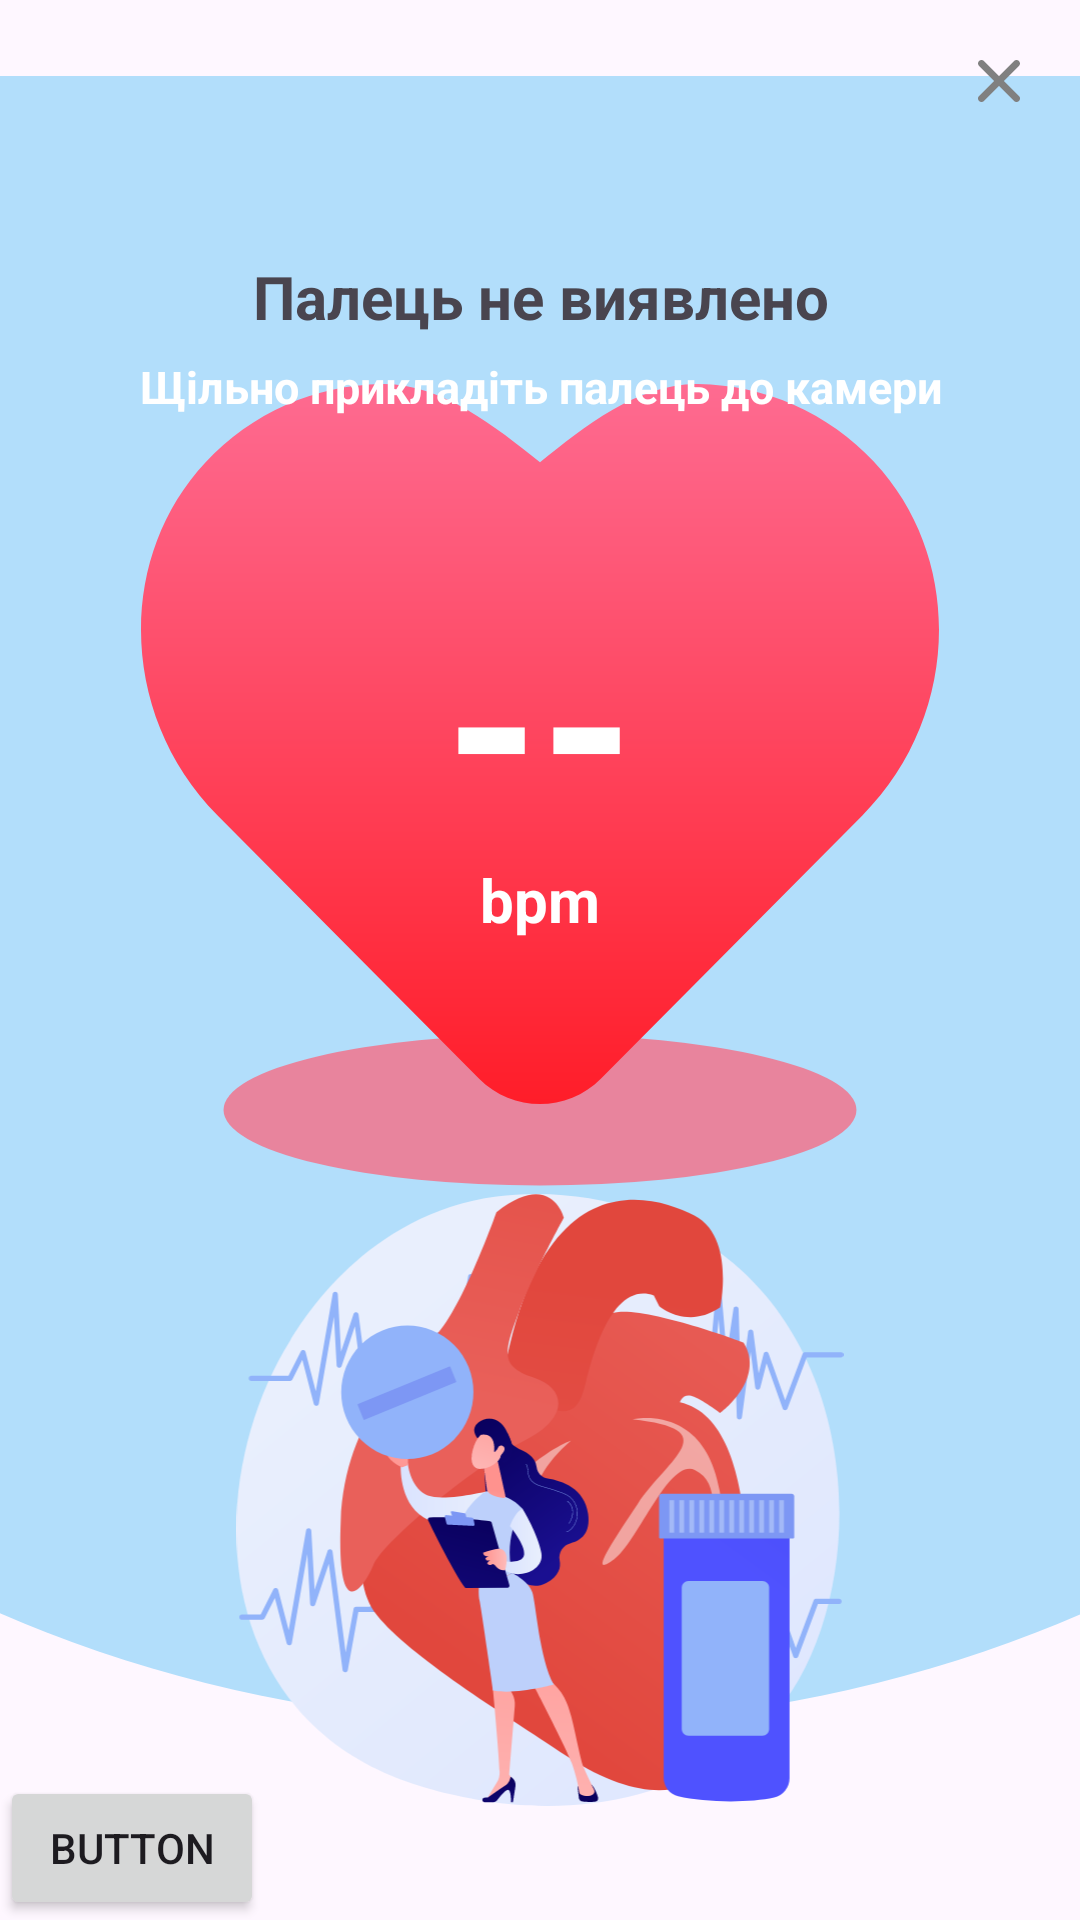

Where to tap for icons on this 1080w x 1920h app screen, as (x,y):
close: (999,81)
